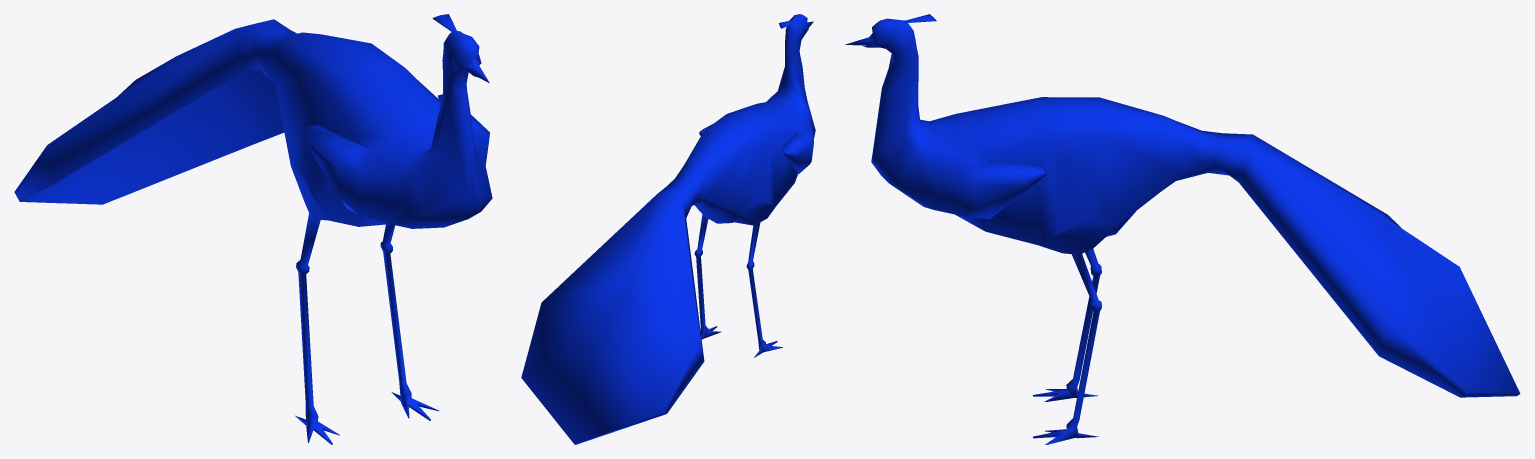
Rendered from peacock-sf.glb.
The picture shows the model from 3 angles, left to right: view 1: azimuth 30°, elevation 25°; view 2: azimuth 150°, elevation 25°; view 3: azimuth 270°, elevation 25°; orthographic projection. The views are drawn at different scales.
Parts seen in each view (by area): view 1: Object_2; view 2: Object_2; view 3: Object_2.
Boxes of the visible parts, x1,y1,x2,y2 form: Object_2: (14,14,492,444); Object_2: (521,14,815,444); Object_2: (845,14,1520,444).
Bounding box in the file's own units: 0.3826 × 0.6504 × 0.9941.
